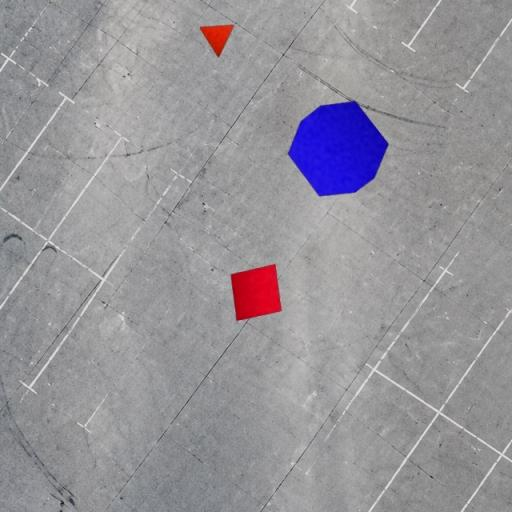RED_SQUARE: (230, 264, 282, 322)
